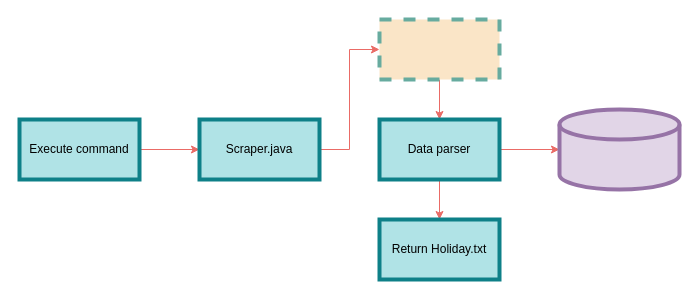
The diagram is 698 pixels wide and 298 high, and some of its shapes have lost their labels. The box of each missing label's shape, as (x1, y1, x2, y2) in pixels:
Calendar API: (377, 17, 501, 81)
Holiday.txt: (557, 107, 681, 191)
